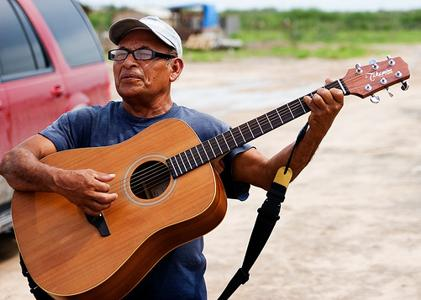person: (2, 15, 345, 299)
